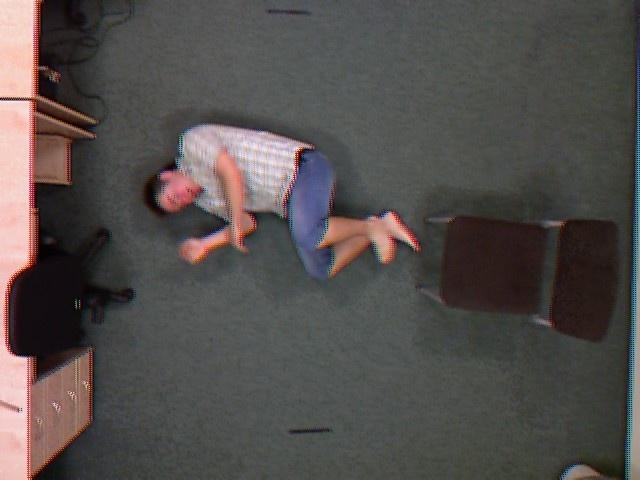fall: (133, 118, 420, 289)
